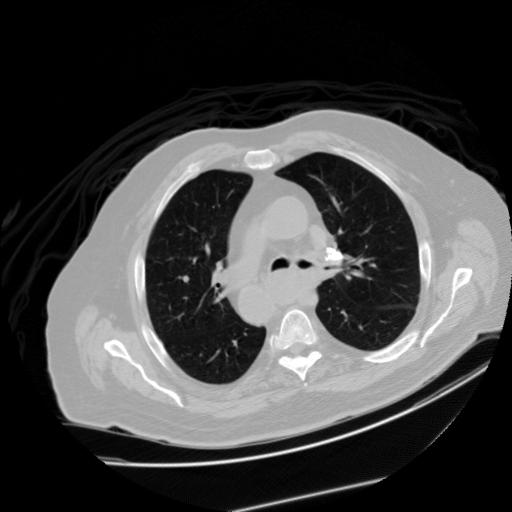nodule: (180, 271, 194, 285)
